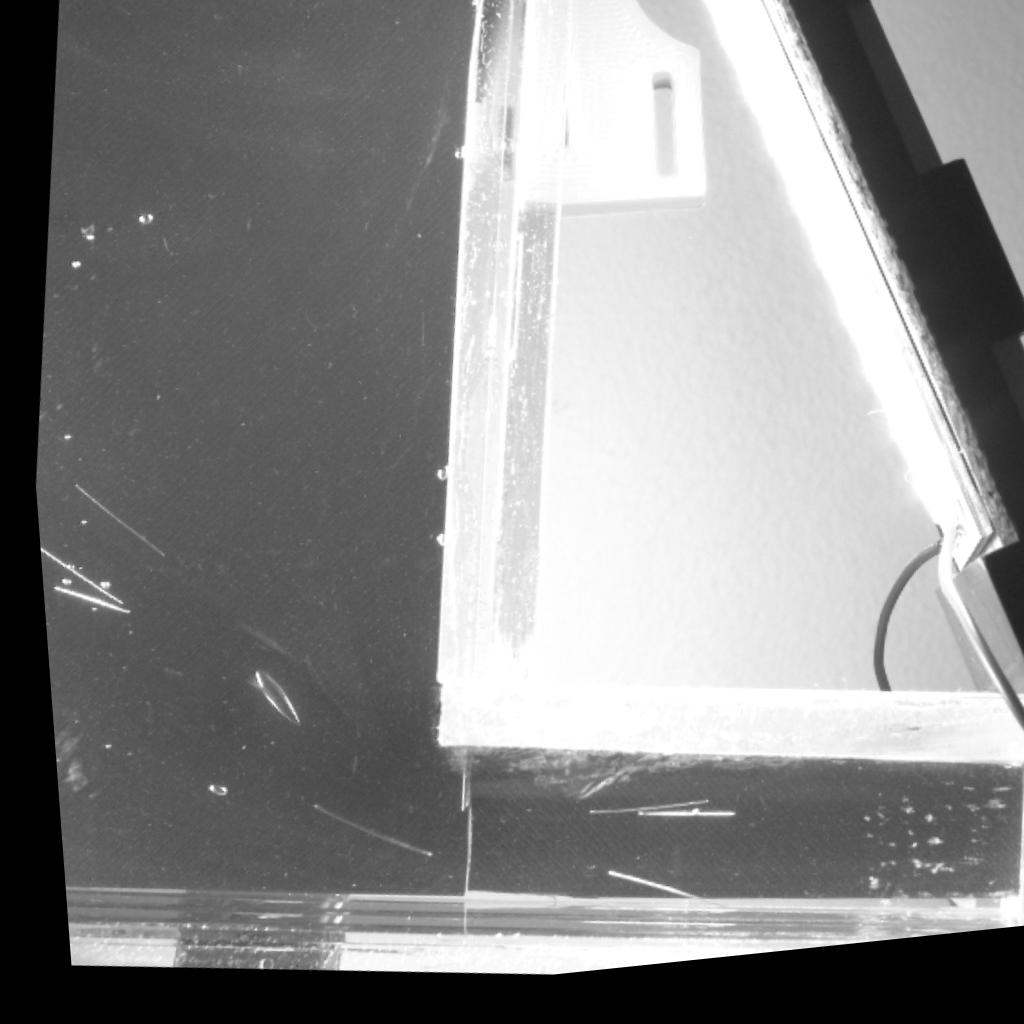Fiber: (65, 478, 163, 565), (298, 808, 424, 870), (31, 539, 114, 607), (591, 880, 700, 921), (575, 805, 697, 832), (44, 579, 122, 617), (620, 822, 725, 835)
